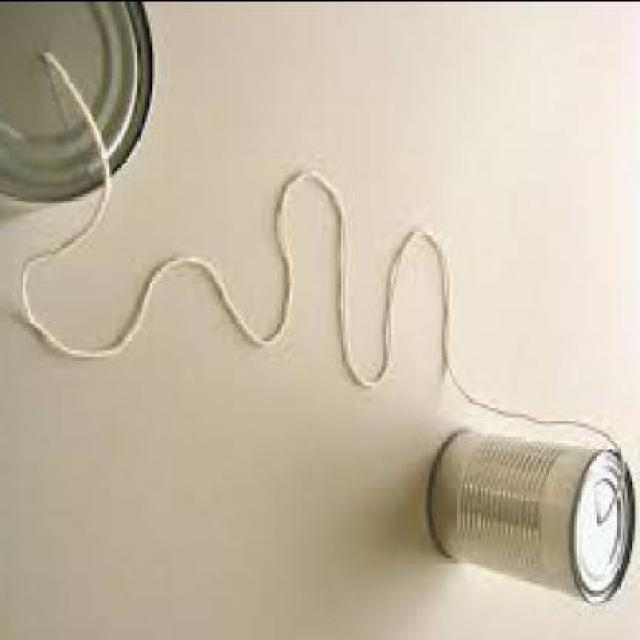METAL: (428, 423, 638, 599), (2, 2, 160, 215)
